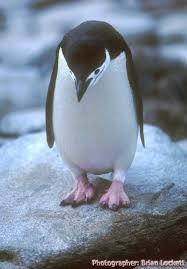chinstrap: (31, 18, 158, 223)
